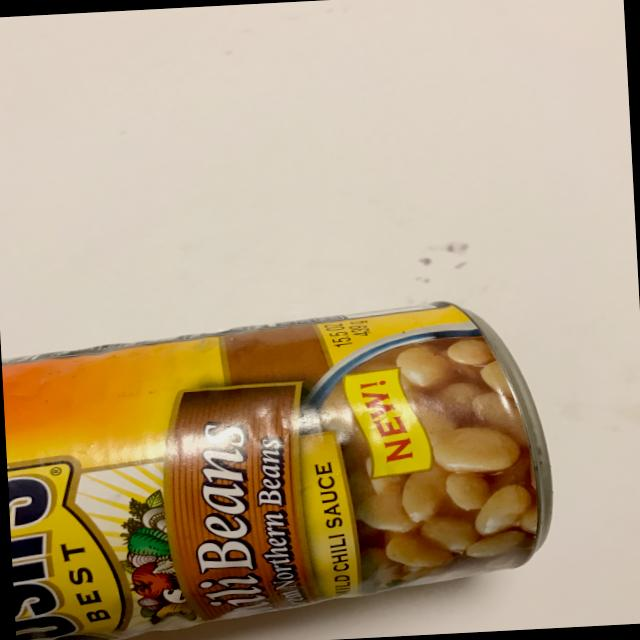Metal: (0, 285, 569, 640)
